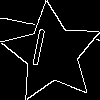I: (26, 28, 49, 76)
